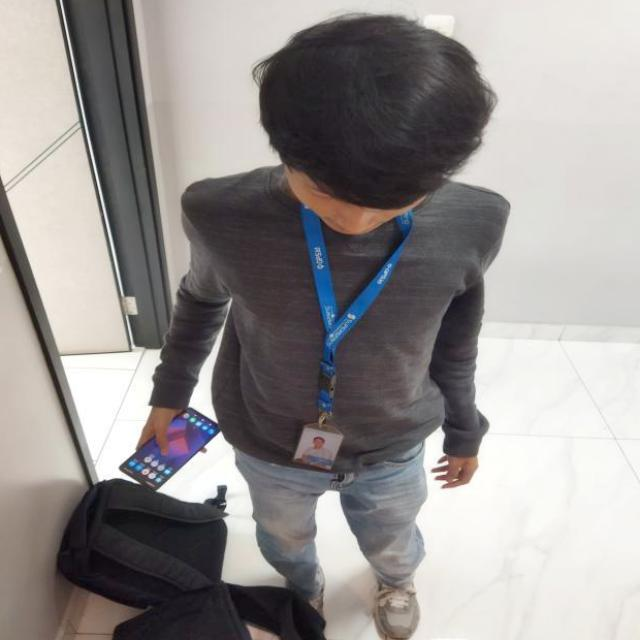ID_card: (298, 207, 398, 453)
